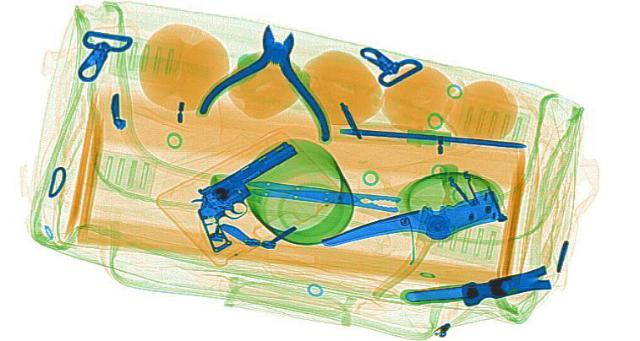Gun: (143, 142, 355, 251)
Pliers: (191, 21, 347, 140)
